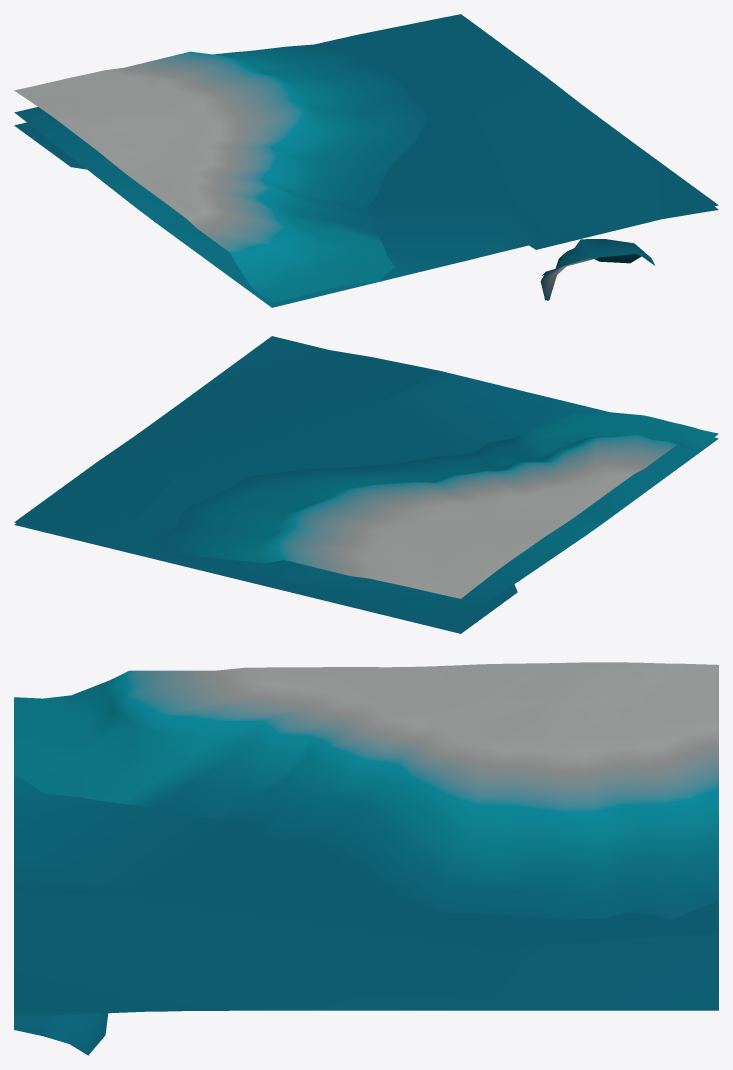
3 renders of one model, top to bottom at view 1: azimuth 30°, elevation 25°; view 2: azimuth 150°, elevation 25°; view 3: azimuth 270°, elevation 25°, orthographic. The views are drawn at different scales.
Parts seen in each view (by area): view 1: G:\FFXIV-MapTools\exports\s1f3\bg\ffxiv\sea_s1\fld\s1f3\bgpl (×6); view 2: G:\FFXIV-MapTools\exports\s1f3\bg\ffxiv\sea_s1\fld\s1f3\bgpl (×5); view 3: G:\FFXIV-MapTools\exports\s1f3\bg\ffxiv\sea_s1\fld\s1f3\bgpl (×6).
Part boxes in pixels (x1,y1,x2,y2): G:\FFXIV-MapTools\exports\s1f3\bg\ffxiv\sea_s1\fld\s1f3\bgpl (×6): (14,14,718,307); G:\FFXIV-MapTools\exports\s1f3\bg\ffxiv\sea_s1\fld\s1f3\bgpl (×5): (14,336,718,633); G:\FFXIV-MapTools\exports\s1f3\bg\ffxiv\sea_s1\fld\s1f3\bgpl (×6): (14,662,718,1055).
Size of the model in its own units: 128 by 27.32 by 128.
